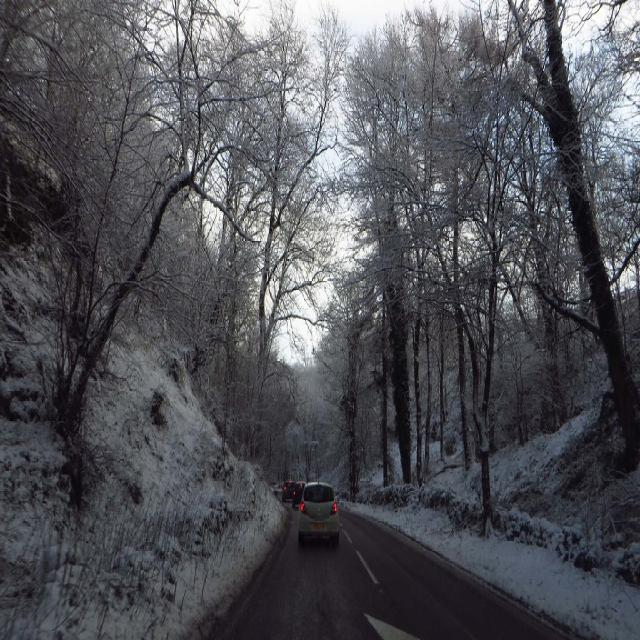car: (297, 478, 340, 546)
